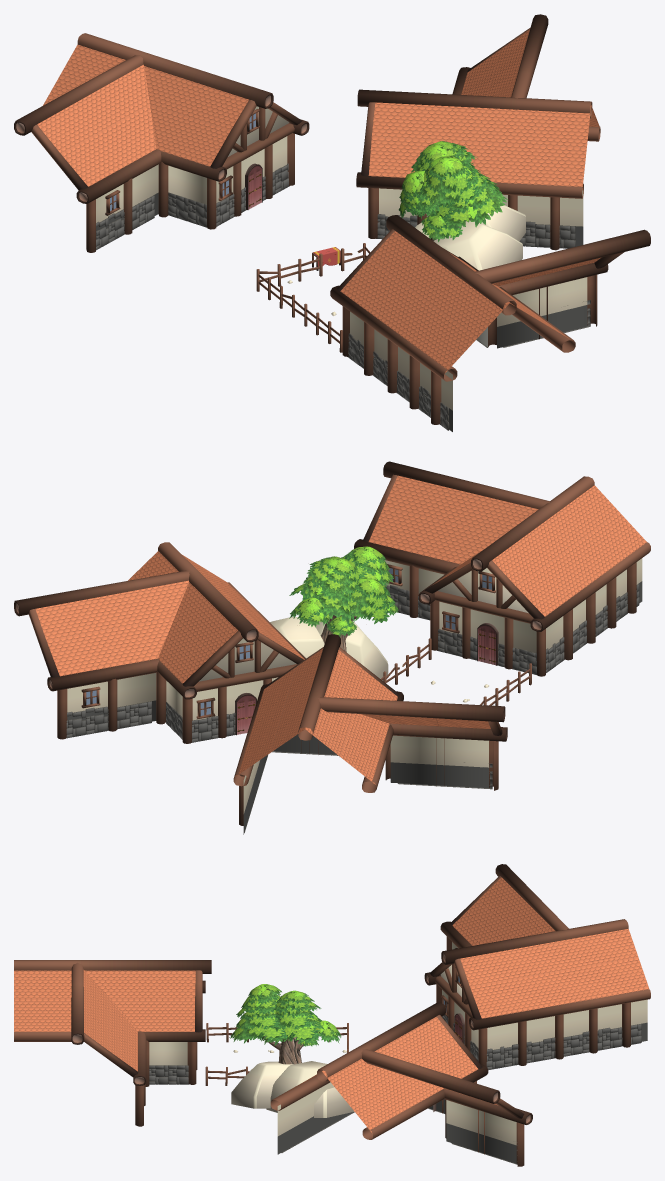
The model's file is Garden_House_Main.fbx.
3 renders of one model, top to bottom at view 1: azimuth 30°, elevation 25°; view 2: azimuth 150°, elevation 25°; view 3: azimuth 270°, elevation 25°, orthographic. The views are drawn at different scales.
Visible parts, largest first — view 1: Garden_House_Main.003; view 2: Garden_House_Main.003; view 3: Garden_House_Main.003.
Part boxes in pixels (x1,y1,x2,y2): Garden_House_Main.003: [14, 14, 650, 431]; Garden_House_Main.003: [14, 461, 650, 834]; Garden_House_Main.003: [14, 864, 650, 1166].
Size of the model in its own units: 3104 by 847 by 3867.
